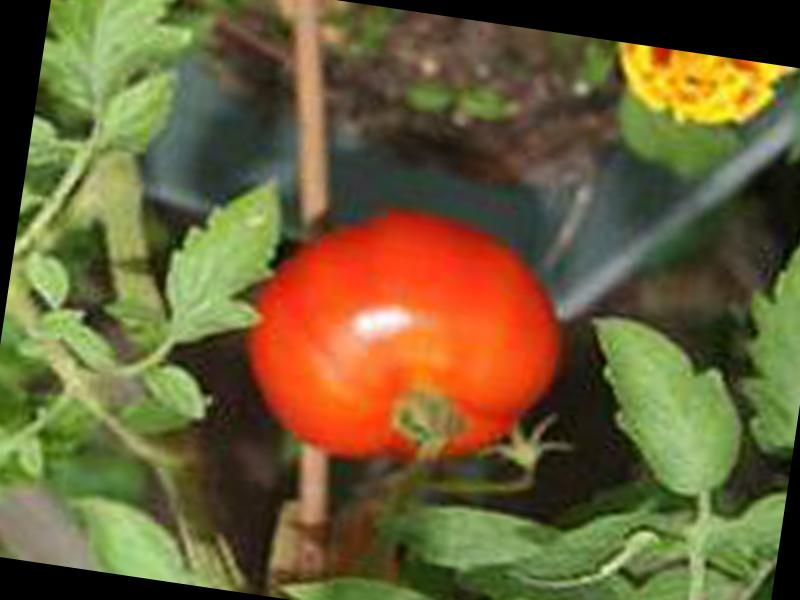Tomato: (228, 193, 580, 488)
